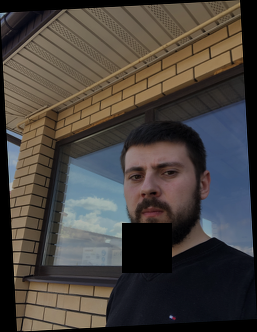without_mask: (122, 153, 200, 250)
